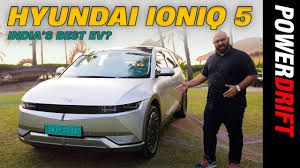Honda Ioniq: (16, 47, 191, 159)
